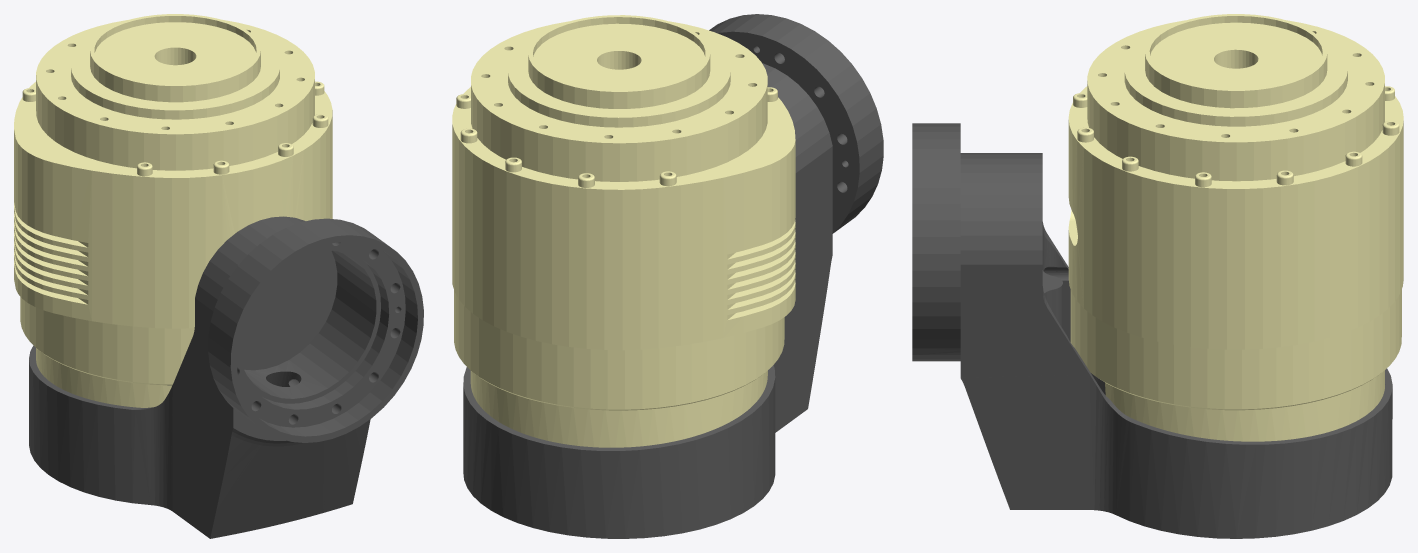
3 views of the same model, side by side, from view 1: azimuth 30°, elevation 25°; view 2: azimuth 150°, elevation 25°; view 3: azimuth 270°, elevation 25° (orthographic). The views are drawn at different scales.
Parts seen in each view (by area): view 1: link6; view 2: link6; view 3: link6.
Part boxes in pixels (x1,y1,x2,y2): link6: [14, 14, 423, 538]; link6: [452, 14, 883, 538]; link6: [912, 14, 1403, 538].
Size of the model in its own units: 0.0954 by 0.132 by 0.1245.
